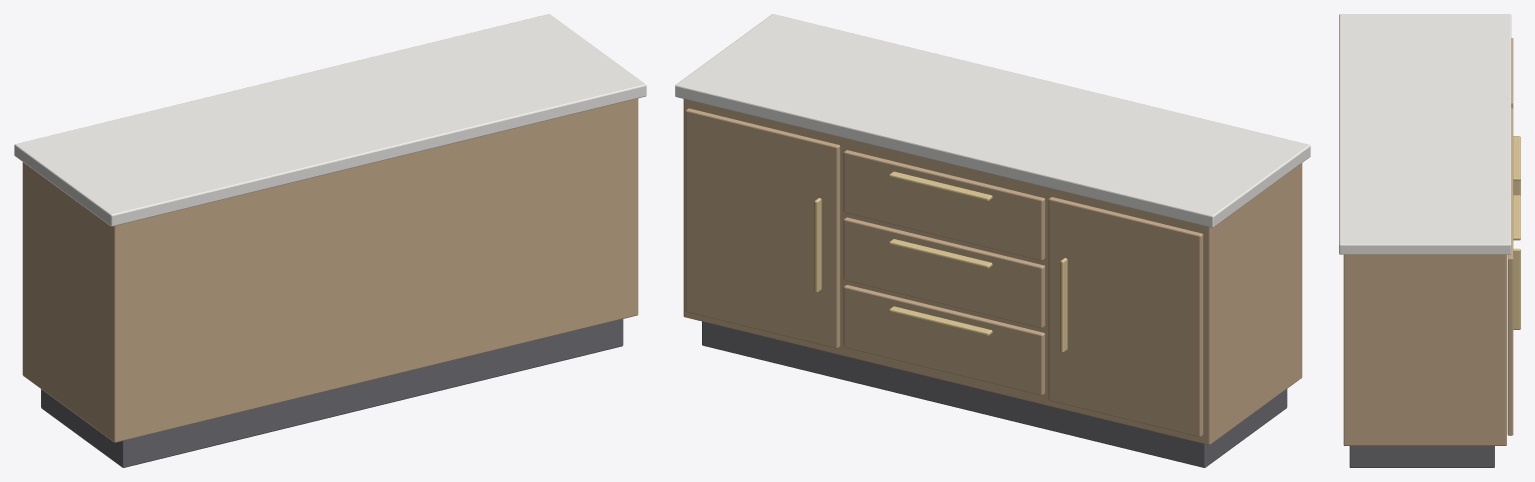
The model's file is cabinet-demo.glb.
3 views of the same model, side by side, from view 1: azimuth 30°, elevation 25°; view 2: azimuth 150°, elevation 25°; view 3: azimuth 270°, elevation 25° (orthographic). The views are drawn at different scales.
Visible parts, largest first — view 1: carcass, countertop, toe_kick; view 2: countertop, carcass, door_left, door_right, toe_kick, drawer_1, drawer_2, drawer_3, handle_drawer_1, handle_drawer_2, handle_drawer_3, handle_door_left (+1 smaller); view 3: countertop, carcass, toe_kick, door_right, handle_door_right, handle_drawer_2, handle_drawer_1, drawer_1, door_left.
Boxes of the visible parts, x1,y1,x2,y2 form: carcass: (22, 98, 638, 442); countertop: (14, 14, 646, 226); toe_kick: (41, 319, 623, 467); countertop: (675, 14, 1310, 227); carcass: (683, 99, 1302, 444); door_left: (1048, 197, 1203, 437); door_right: (685, 108, 840, 348); toe_kick: (702, 321, 1287, 467); drawer_1: (843, 150, 1045, 260); drawer_2: (843, 217, 1045, 328); drawer_3: (843, 285, 1045, 395); handle_drawer_1: (889, 171, 992, 201); handle_drawer_2: (889, 239, 992, 268); handle_drawer_3: (889, 306, 992, 336); handle_door_left: (1060, 258, 1067, 352); countertop: (1339, 14, 1511, 254); carcass: (1343, 254, 1506, 445); toe_kick: (1349, 446, 1494, 467); door_right: (1507, 193, 1513, 435); handle_door_right: (1513, 248, 1520, 329); handle_drawer_2: (1513, 195, 1520, 240); handle_drawer_1: (1513, 136, 1520, 180); drawer_1: (1511, 108, 1513, 193); door_left: (1511, 38, 1513, 108).
Bounding box in the file's own units: 1.84 × 0.86 × 0.612.
